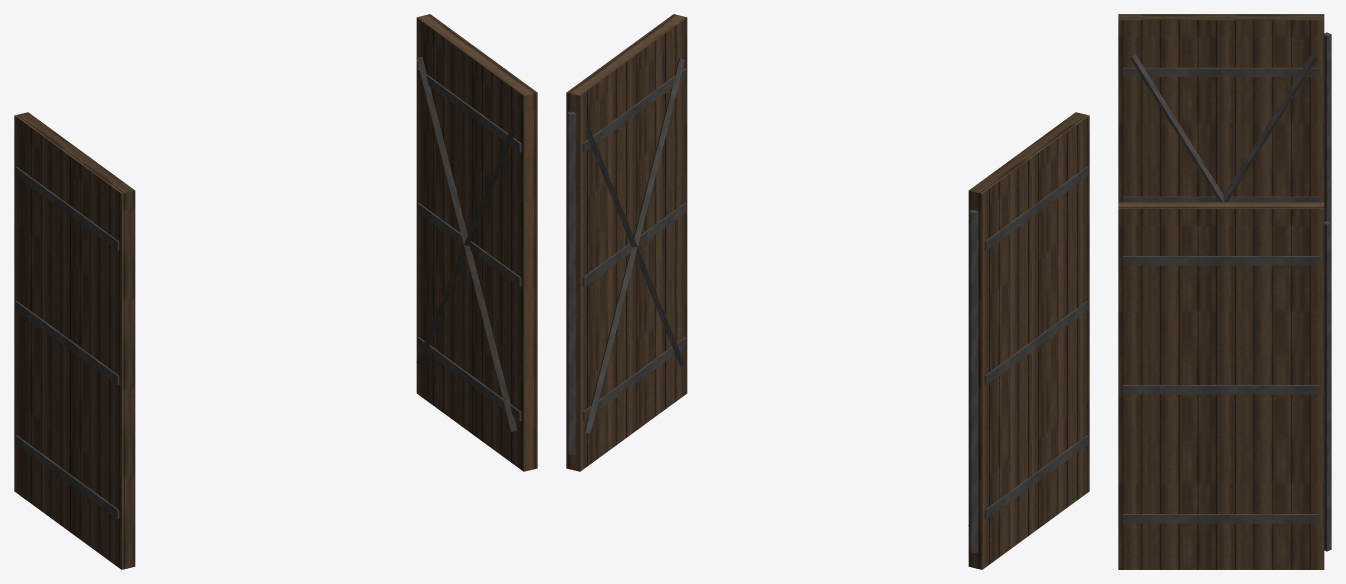
The model's file is Gate_City_Iron_1_LOD1.gltf.
3 views of the same model, side by side, from view 1: azimuth 30°, elevation 25°; view 2: azimuth 150°, elevation 25°; view 3: azimuth 270°, elevation 25° (orthographic). The views are drawn at different scales.
Parts seen in each view (by area): view 1: Gate_City_Iron_1_LOD1; view 2: Gate_City_Iron_1_LOD1; view 3: Gate_City_Iron_1_LOD1.
Boxes of the visible parts, box(x1,y1,x2,y2) form: Gate_City_Iron_1_LOD1: box(14, 14, 537, 569); Gate_City_Iron_1_LOD1: box(566, 14, 1089, 569); Gate_City_Iron_1_LOD1: box(1118, 14, 1331, 569).
Size of the model in its own units: 4.9 by 4.2 by 2.25.
Materials: 2 (2 with a texture image).
